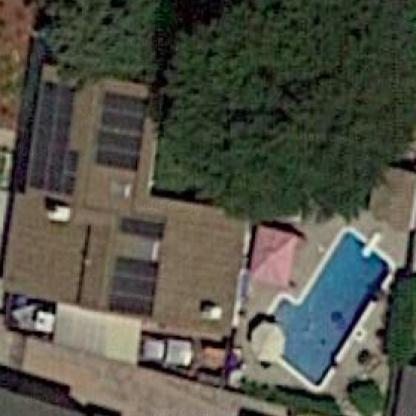car: (132, 328, 196, 372)
solar_panel: (97, 208, 165, 320), (32, 79, 82, 208), (94, 83, 151, 185)
swimming_pool: (255, 236, 415, 390)
